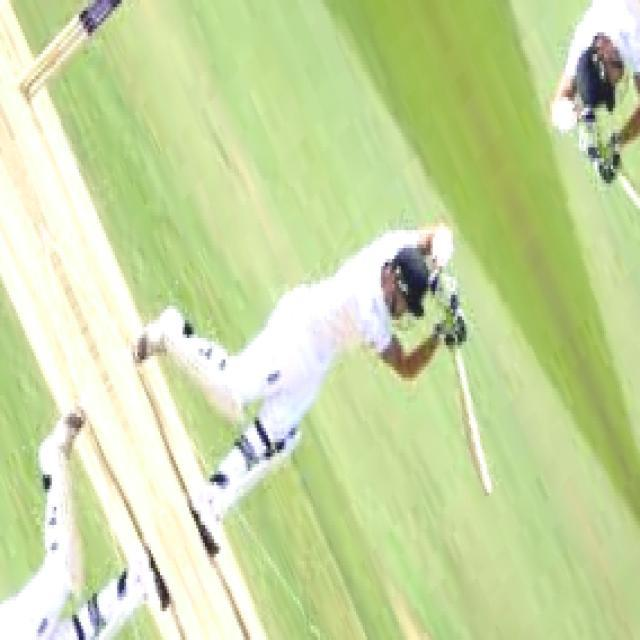bat: (451, 345, 502, 501)
